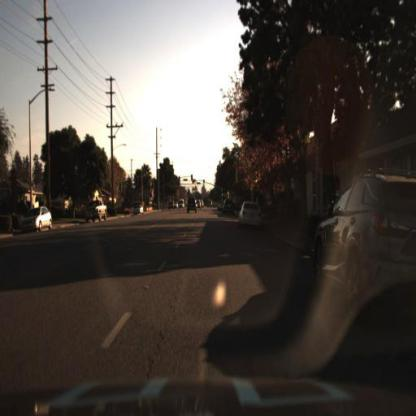car: (310, 167, 416, 325), (16, 203, 56, 241), (238, 199, 265, 226), (86, 198, 109, 227), (130, 199, 147, 223), (220, 199, 237, 217), (166, 197, 176, 215), (189, 197, 199, 213), (178, 198, 186, 214)
